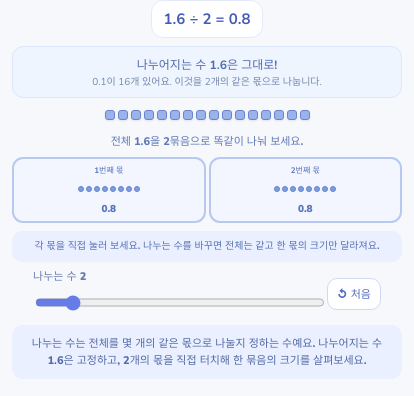
Test: 소수 나눗셈의 용어와 직접 조작 › 조절 후 처음을 누르면 문제에 나온 제수와 몫으로 돌아간다
Step 1. Set the slider labelled "나누는 수" to "4" → (134, 303), box [35, 290, 325, 315]
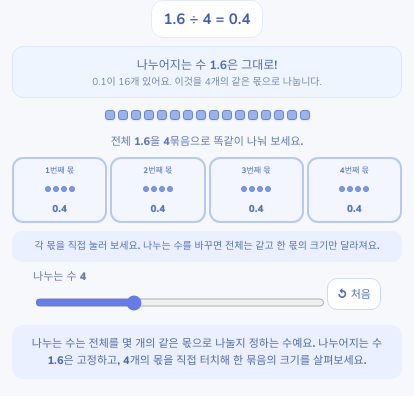
Check: the text "1.6 ÷ 4 = 0.4" is shown, box [164, 9, 250, 29]
Step 2. Click the button "↺ 처음" → (354, 294), box [327, 278, 381, 310]
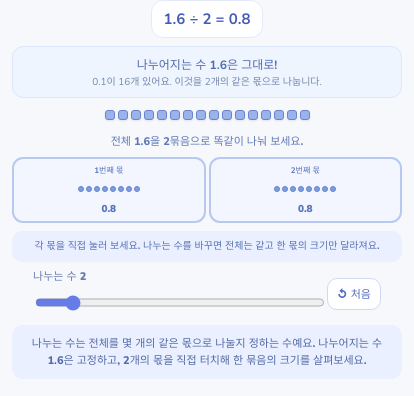
Check: the text "1.6 ÷ 2 = 0.8" is shown, box [164, 9, 250, 29]
